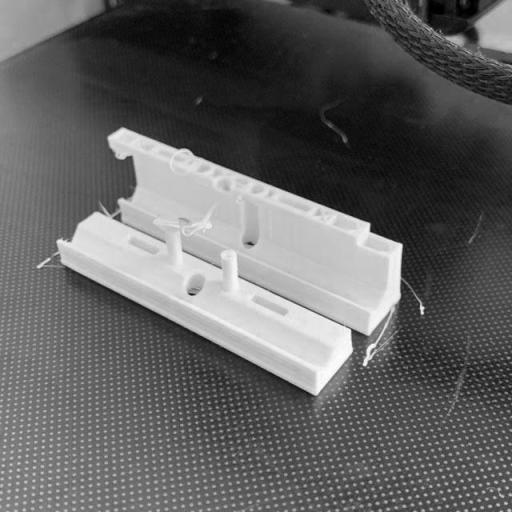spaghetti_and_stringing: (154, 217, 212, 236), (170, 146, 204, 177), (99, 199, 122, 221)
